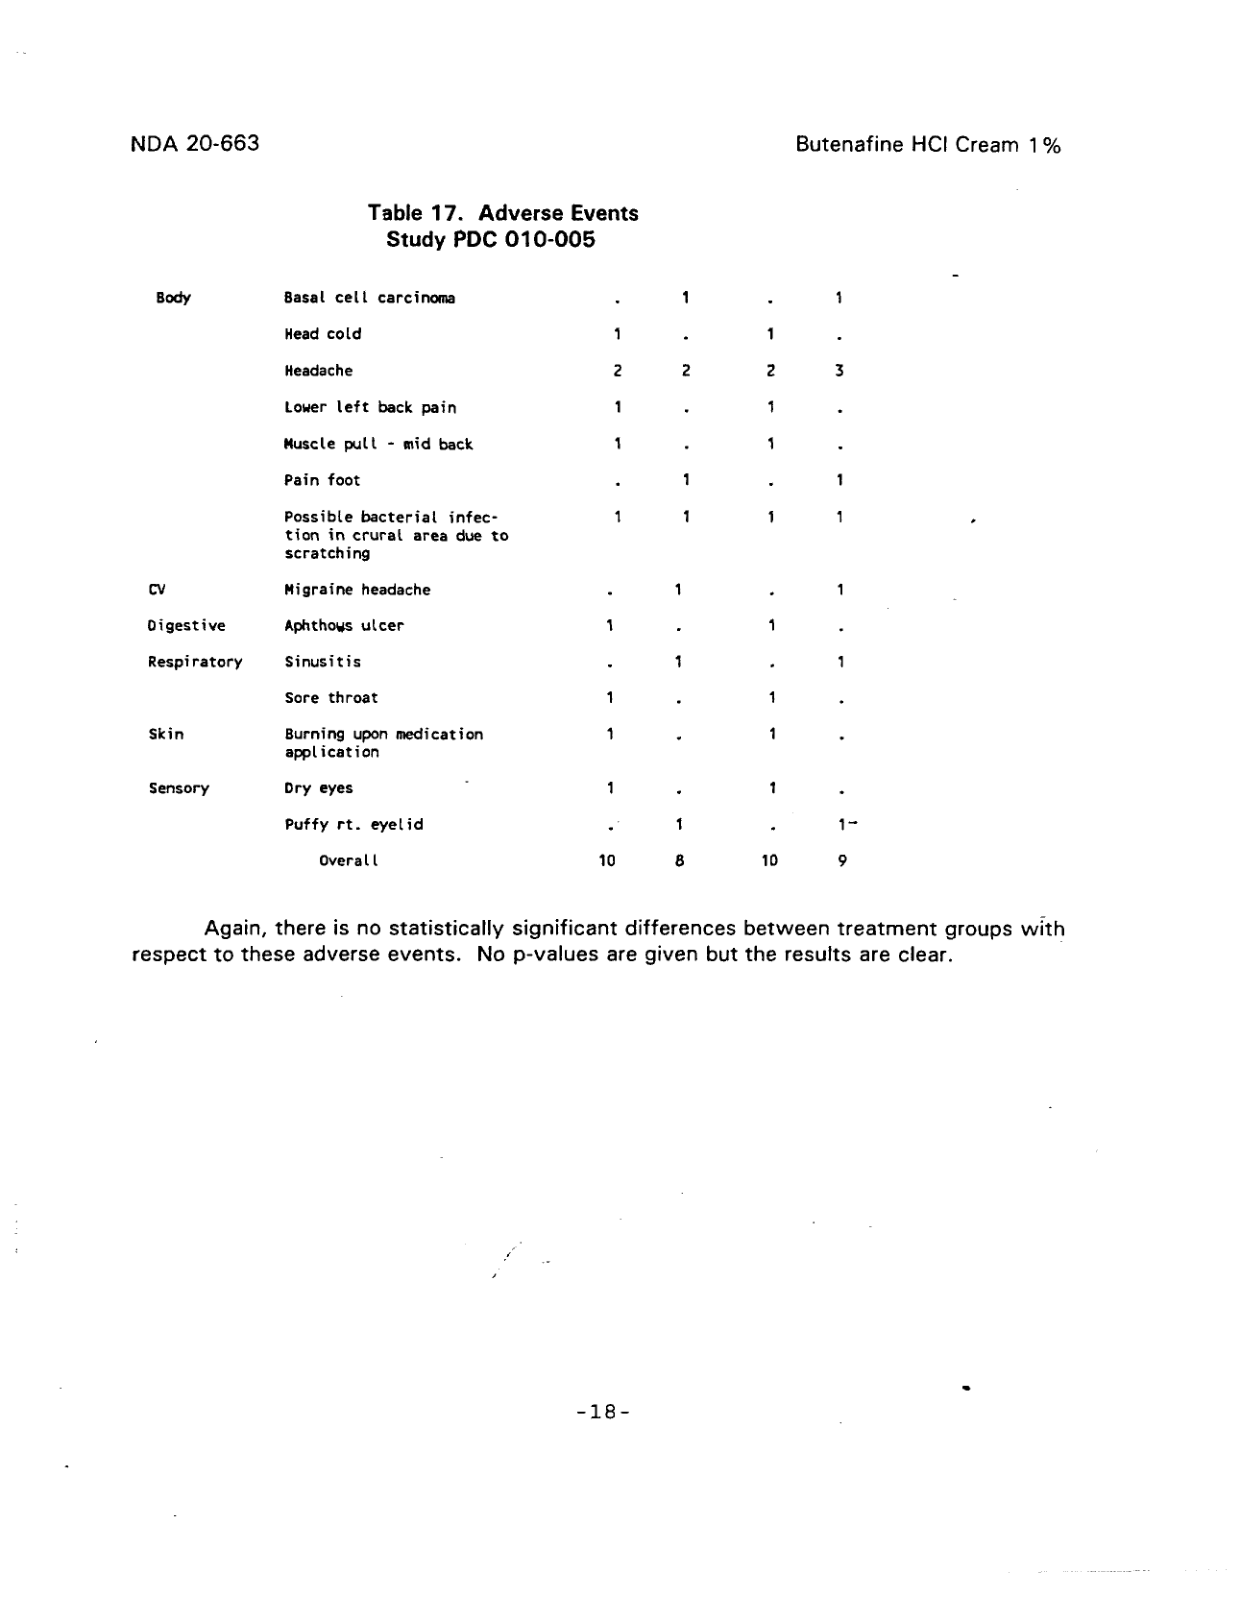nolines: (146, 286, 861, 873)
